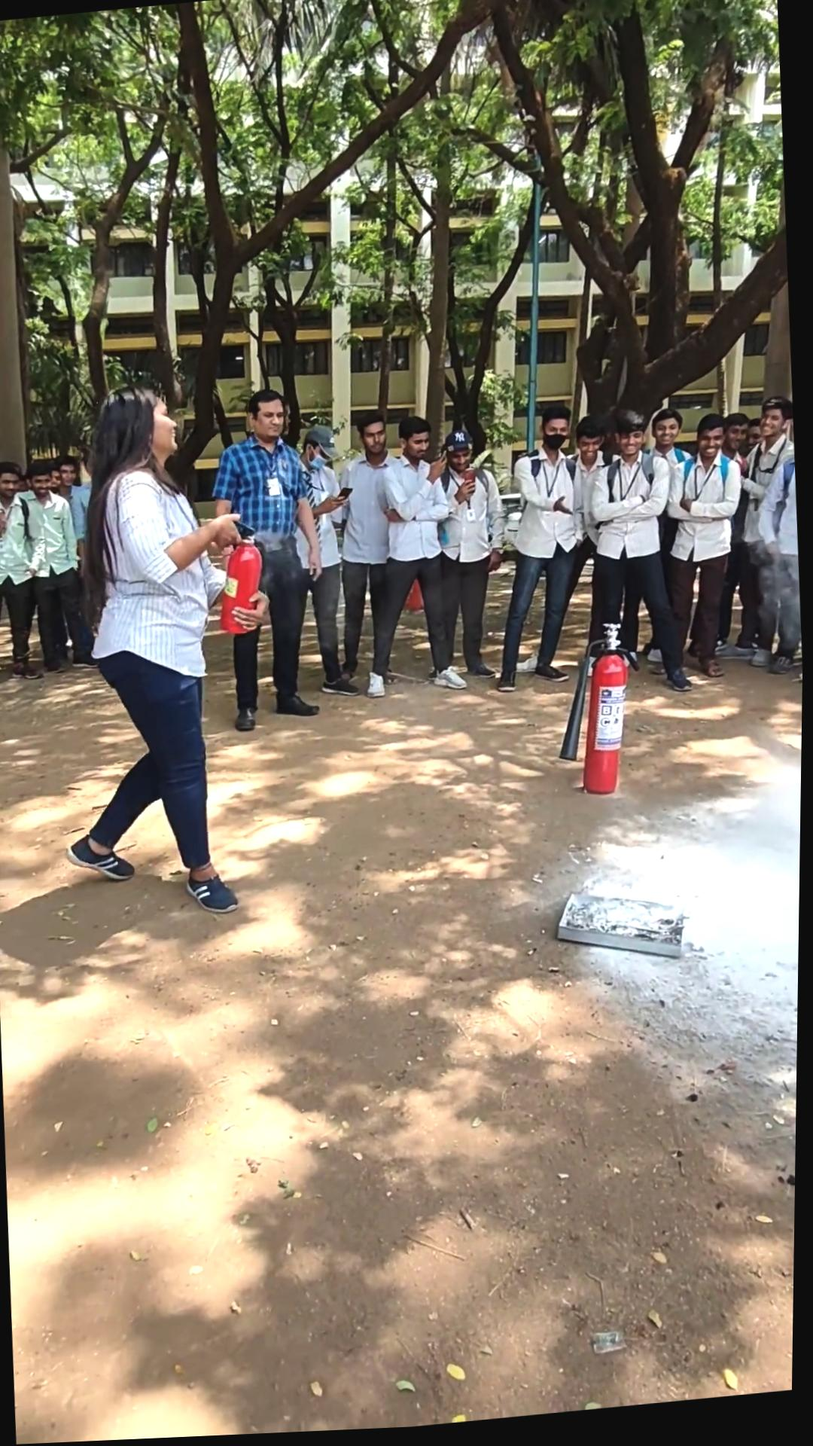FireExtinguisher: (564, 610, 685, 829), (211, 520, 292, 655)
